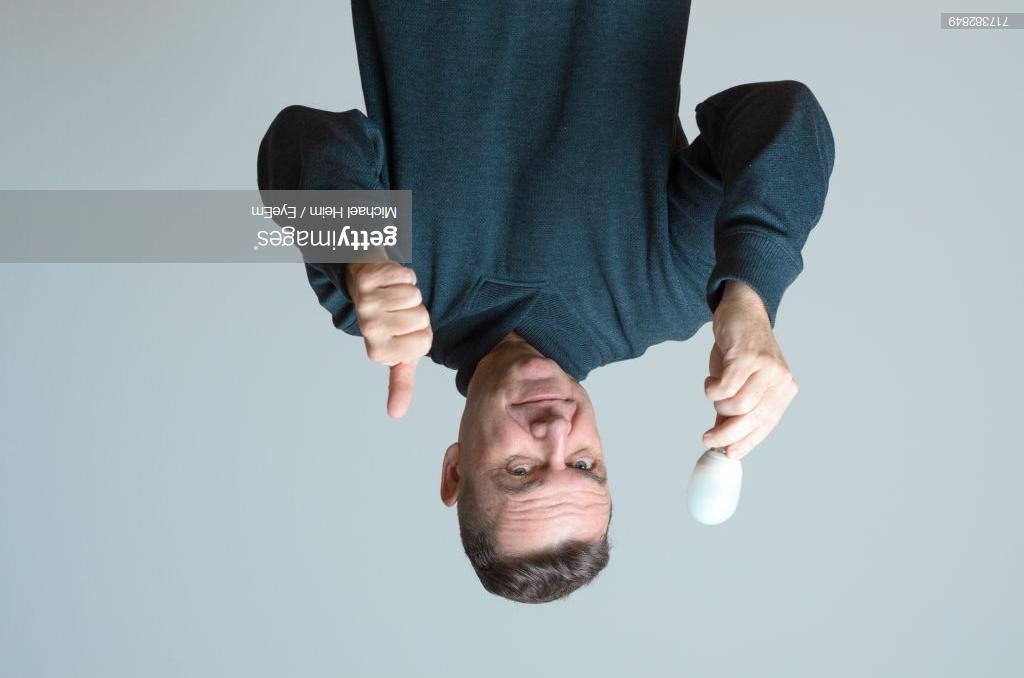thumbsdown: (354, 263, 435, 420)
